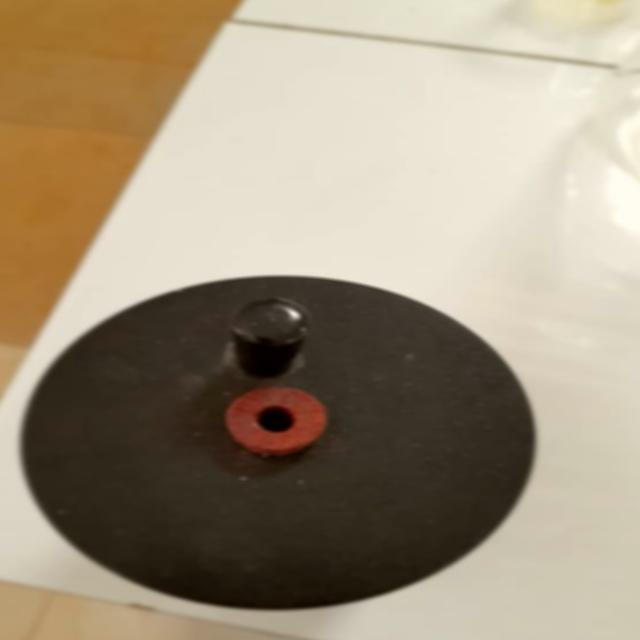Calorimeter: (21, 270, 541, 614)
